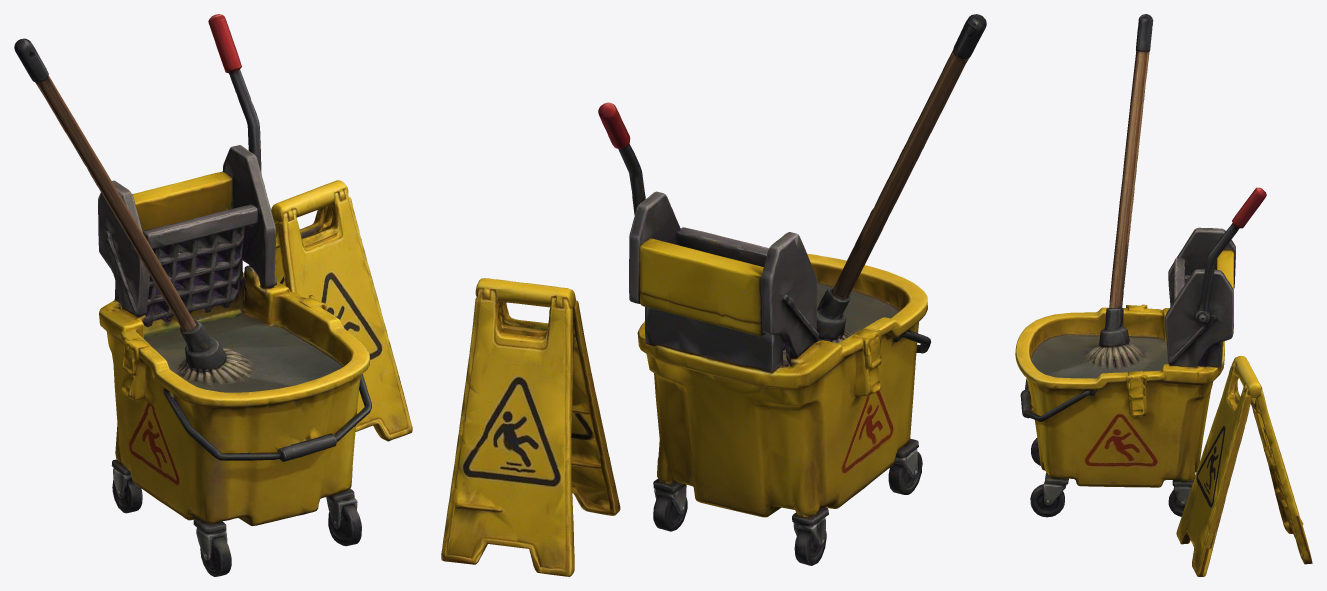
The model's file is mop_and_bucket.glb.
The picture shows the model from 3 angles, left to right: view 1: azimuth 30°, elevation 25°; view 2: azimuth 150°, elevation 25°; view 3: azimuth 270°, elevation 25°; orthographic projection. The views are drawn at different scales.
Parts seen in each view (by area): view 1: mesh_node; view 2: mesh_node; view 3: mesh_node.
Boxes of the visible parts, x1,y1,x2,y2 form: mesh_node: (14, 14, 412, 576); mesh_node: (441, 14, 986, 576); mesh_node: (1015, 14, 1312, 576).
Size of the model in its own units: 1.64 by 1.9 by 1.27.
Materials: 1 (1 with a texture image).
